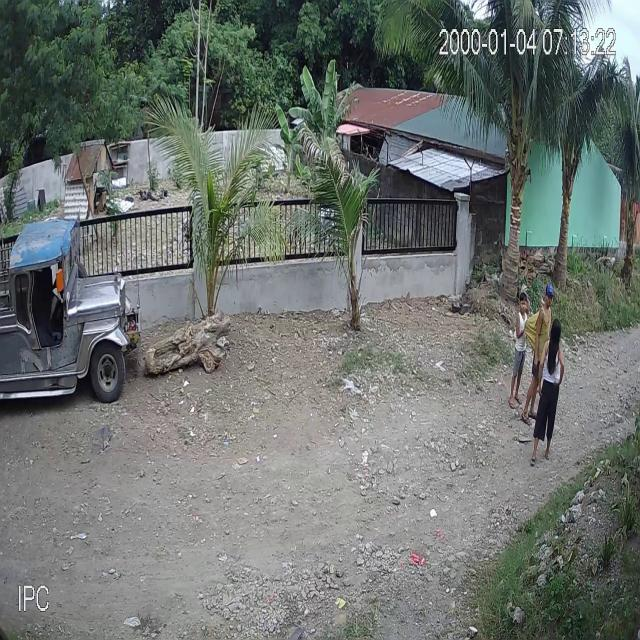standing: (520, 281, 554, 429), (508, 293, 530, 412)
walking: (527, 316, 565, 469)
